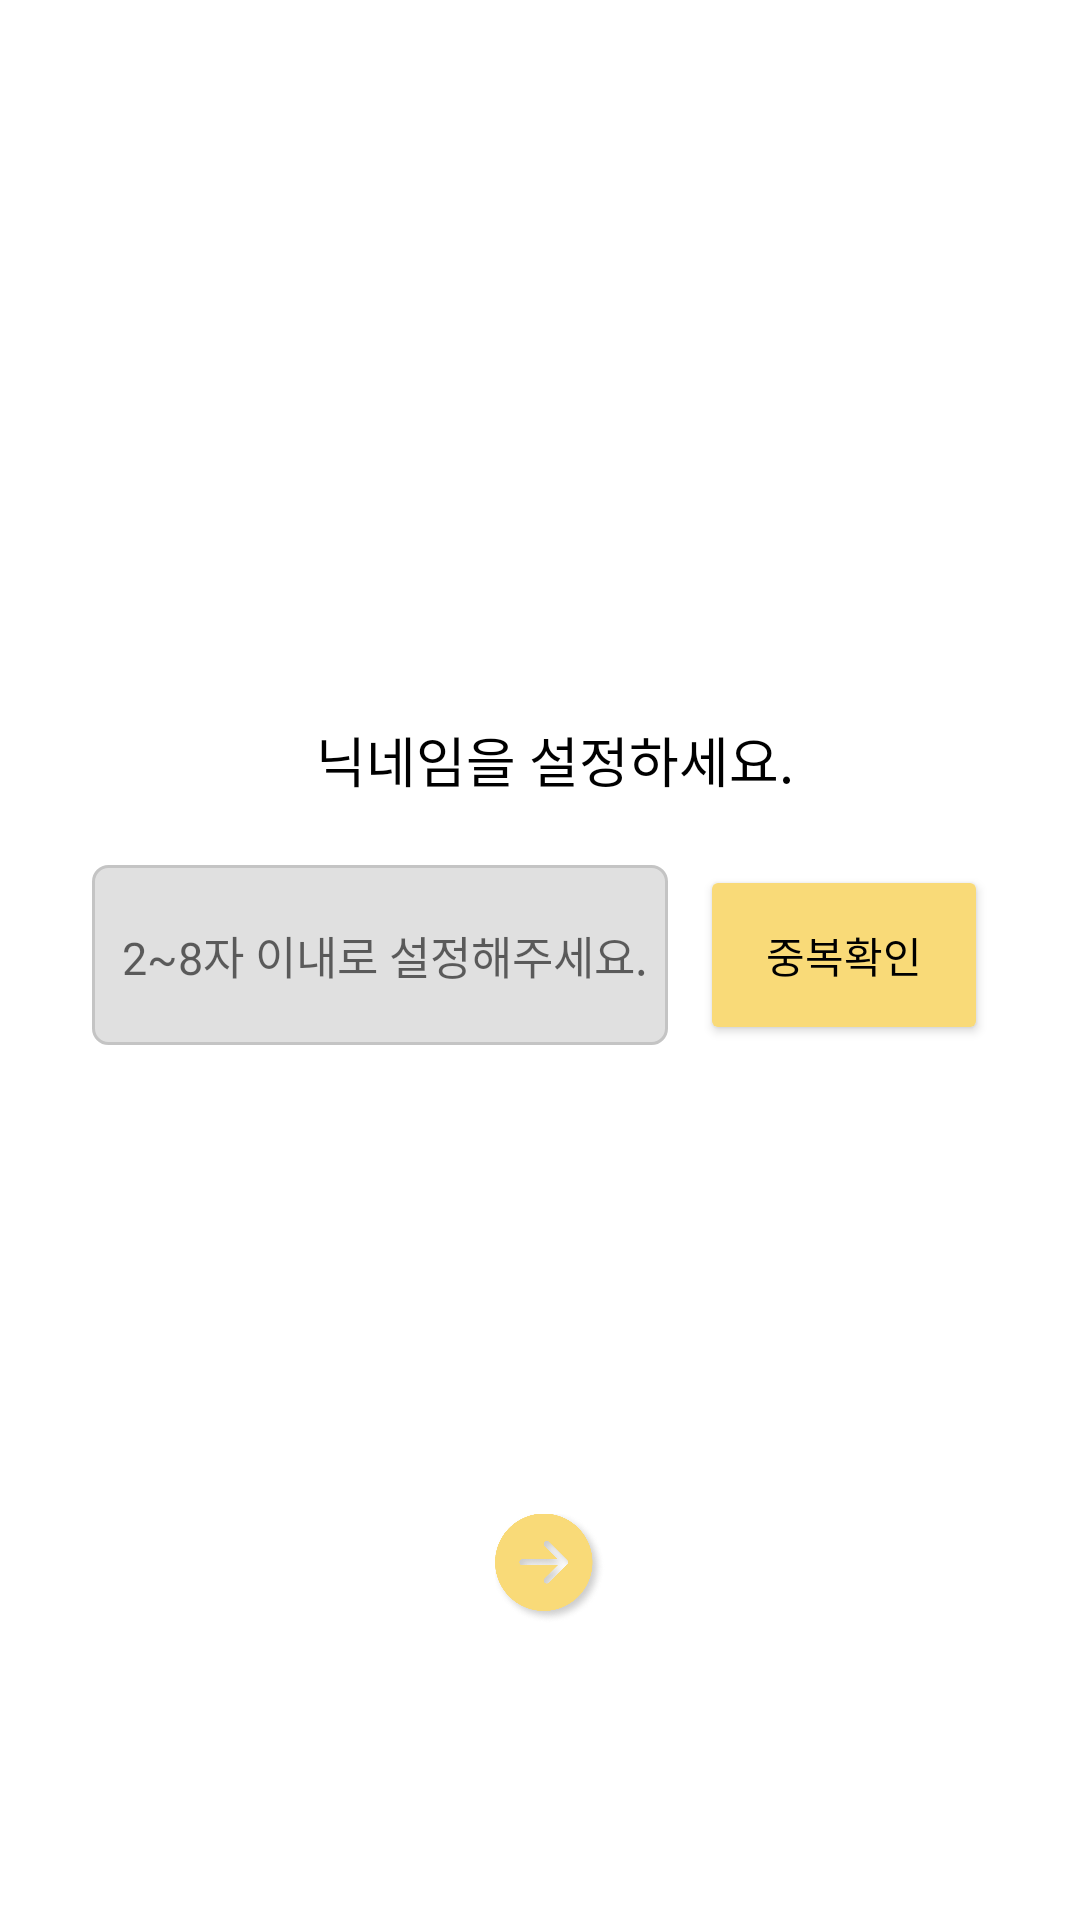

Named icons in this screenshot (1080x1920) and their bounding boxes, (x1, y1, x2, y2):
login next: (495, 1514, 597, 1615)
